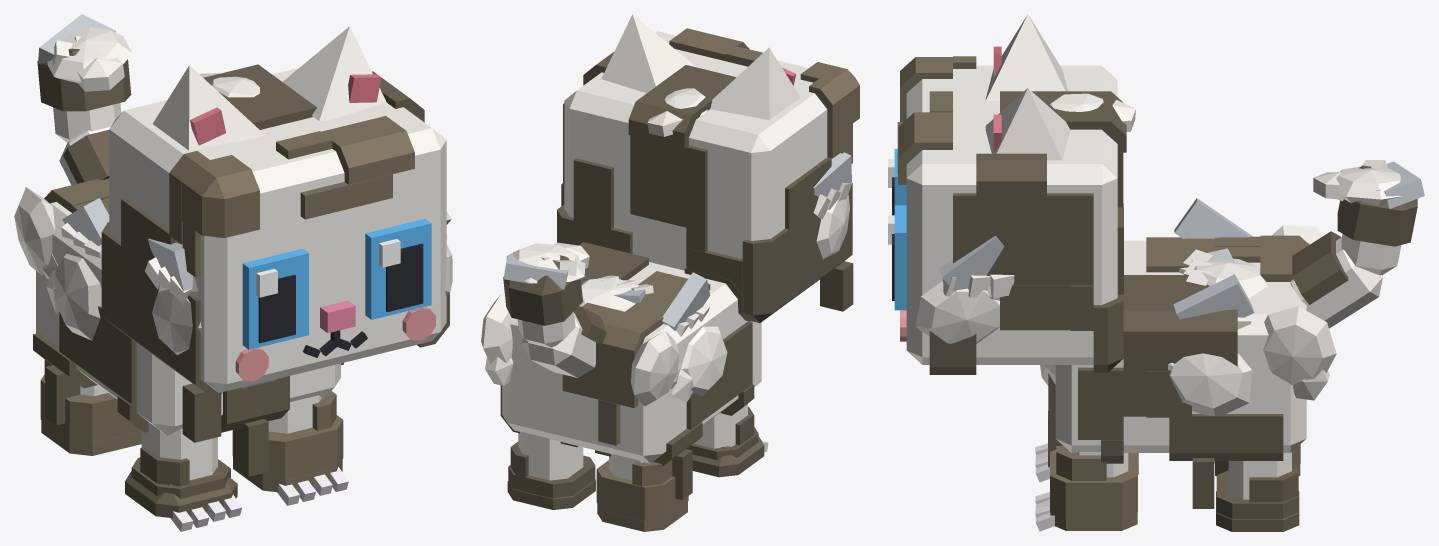
File: CleanACat_Cat_Cotton_Dirty.fbx
The picture shows the model from 3 angles, left to right: view 1: azimuth 30°, elevation 25°; view 2: azimuth 150°, elevation 25°; view 3: azimuth 270°, elevation 25°; orthographic projection. The views are drawn at different scales.
Visible parts, largest first — view 1: CleanACat_Cat_Cotton_Dirty_Head, CleanACat_Cat_Cotton_Dirty_Mud01, CleanACat_Cat_Cotton_Dirty_Mud03, CleanACat_Cat_Cotton_Dirty_Mud06, CleanACat_Cat_Cotton_Dirty_Body, CleanACat_Cat_Cotton_Dirty_Eye1, CleanACat_Cat_Cotton_Dirty_Eye2, CleanACat_Cat_Cotton_Dirty_EarL, CleanACat_Cat_Cotton_Dirty_Mud15, CleanACat_Cat_Cotton_Dirty_EarR, CleanACat_Cat_Cotton_Dirty_Mud16, CleanACat_Cat_Cotton_Dirty_Mud18 (+19 smaller); view 2: CleanACat_Cat_Cotton_Dirty_Head, CleanACat_Cat_Cotton_Dirty_Body, CleanACat_Cat_Cotton_Dirty_Mud01, CleanACat_Cat_Cotton_Dirty_Mud04, CleanACat_Cat_Cotton_Dirty_Mud09, CleanACat_Cat_Cotton_Dirty_Mud18, CleanACat_Cat_Cotton_Dirty_Mud05, CleanACat_Cat_Cotton_Dirty_Mud10, CleanACat_Cat_Cotton_Dirty_EarL, CleanACat_Cat_Cotton_Dirty_EarR, CleanACat_Cat_Cotton_Dirty_Tail, CleanACat_Cat_Cotton_Dirty_Mud06 (+23 smaller); view 3: CleanACat_Cat_Cotton_Dirty_Head, CleanACat_Cat_Cotton_Dirty_Mud02, CleanACat_Cat_Cotton_Dirty_Mud08, CleanACat_Cat_Cotton_Dirty_Body, CleanACat_Cat_Cotton_Dirty_Mud11, CleanACat_Cat_Cotton_Dirty_Mud15, CleanACat_Cat_Cotton_Dirty_Fluff09, CleanACat_Cat_Cotton_Dirty_Mud17, CleanACat_Cat_Cotton_Dirty_Tail, CleanACat_Cat_Cotton_Dirty_Fluff05, CleanACat_Cat_Cotton_Dirty_EarL, CleanACat_Cat_Cotton_Dirty_EarR (+22 smaller).
Part boxes in pixels (x1=…): CleanACat_Cat_Cotton_Dirty_Head: x1=109, y1=68, x2=446, y2=392; CleanACat_Cat_Cotton_Dirty_Mud01: x1=101, y1=198, x2=222, y2=442; CleanACat_Cat_Cotton_Dirty_Mud03: x1=276, y1=116, x2=414, y2=219; CleanACat_Cat_Cotton_Dirty_Mud06: x1=169, y1=150, x2=259, y2=277; CleanACat_Cat_Cotton_Dirty_Body: x1=36, y1=202, x2=340, y2=435; CleanACat_Cat_Cotton_Dirty_Eye1: x1=365, y1=219, x2=431, y2=319; CleanACat_Cat_Cotton_Dirty_Eye2: x1=242, y1=248, x2=308, y2=349; CleanACat_Cat_Cotton_Dirty_EarL: x1=283, y1=26, x2=386, y2=121; CleanACat_Cat_Cotton_Dirty_Mud15: x1=232, y1=391, x2=343, y2=492; CleanACat_Cat_Cotton_Dirty_EarR: x1=152, y1=65, x2=264, y2=150; CleanACat_Cat_Cotton_Dirty_Mud16: x1=125, y1=447, x2=237, y2=518; CleanACat_Cat_Cotton_Dirty_Mud18: x1=40, y1=360, x2=141, y2=455; CleanACat_Cat_Cotton_Dirty_Head: x1=564, y1=31, x2=831, y2=270; CleanACat_Cat_Cotton_Dirty_Body: x1=502, y1=262, x2=761, y2=463; CleanACat_Cat_Cotton_Dirty_Mud01: x1=686, y1=157, x2=853, y2=322; CleanACat_Cat_Cotton_Dirty_Mud04: x1=628, y1=65, x2=736, y2=252; CleanACat_Cat_Cotton_Dirty_Mud09: x1=562, y1=298, x2=660, y2=445; CleanACat_Cat_Cotton_Dirty_Mud18: x1=596, y1=459, x2=688, y2=531; CleanACat_Cat_Cotton_Dirty_Mud05: x1=557, y1=158, x2=632, y2=253; CleanACat_Cat_Cotton_Dirty_Mud10: x1=684, y1=268, x2=754, y2=429; CleanACat_Cat_Cotton_Dirty_EarL: x1=601, y1=14, x2=696, y2=93; CleanACat_Cat_Cotton_Dirty_EarR: x1=710, y1=47, x2=800, y2=119; CleanACat_Cat_Cotton_Dirty_Tail: x1=517, y1=311, x2=595, y2=377; CleanACat_Cat_Cotton_Dirty_Mud06: x1=800, y1=62, x2=859, y2=163; CleanACat_Cat_Cotton_Dirty_Head: x1=900, y1=65, x2=1117, y2=364; CleanACat_Cat_Cotton_Dirty_Mud02: x1=929, y1=153, x2=1093, y2=374; CleanACat_Cat_Cotton_Dirty_Mud08: x1=1123, y1=275, x2=1237, y2=417; CleanACat_Cat_Cotton_Dirty_Body: x1=1055, y1=240, x2=1306, y2=452; CleanACat_Cat_Cotton_Dirty_Mud11: x1=1169, y1=414, x2=1283, y2=508; CleanACat_Cat_Cotton_Dirty_Mud15: x1=1050, y1=446, x2=1137, y2=530; CleanACat_Cat_Cotton_Dirty_Fluff09: x1=1263, y1=306, x2=1336, y2=400; CleanACat_Cat_Cotton_Dirty_Mud17: x1=1216, y1=468, x2=1299, y2=531; CleanACat_Cat_Cotton_Dirty_Tail: x1=1290, y1=234, x2=1401, y2=328; CleanACat_Cat_Cotton_Dirty_Fluff05: x1=1168, y1=353, x2=1252, y2=416; CleanACat_Cat_Cotton_Dirty_EarL: x1=985, y1=88, x2=1070, y2=160; CleanACat_Cat_Cotton_Dirty_EarR: x1=985, y1=14, x2=1067, y2=100.
Size of the model in its own units: 1.13 by 1.86 by 2.03.
1 material, 1 textured.
